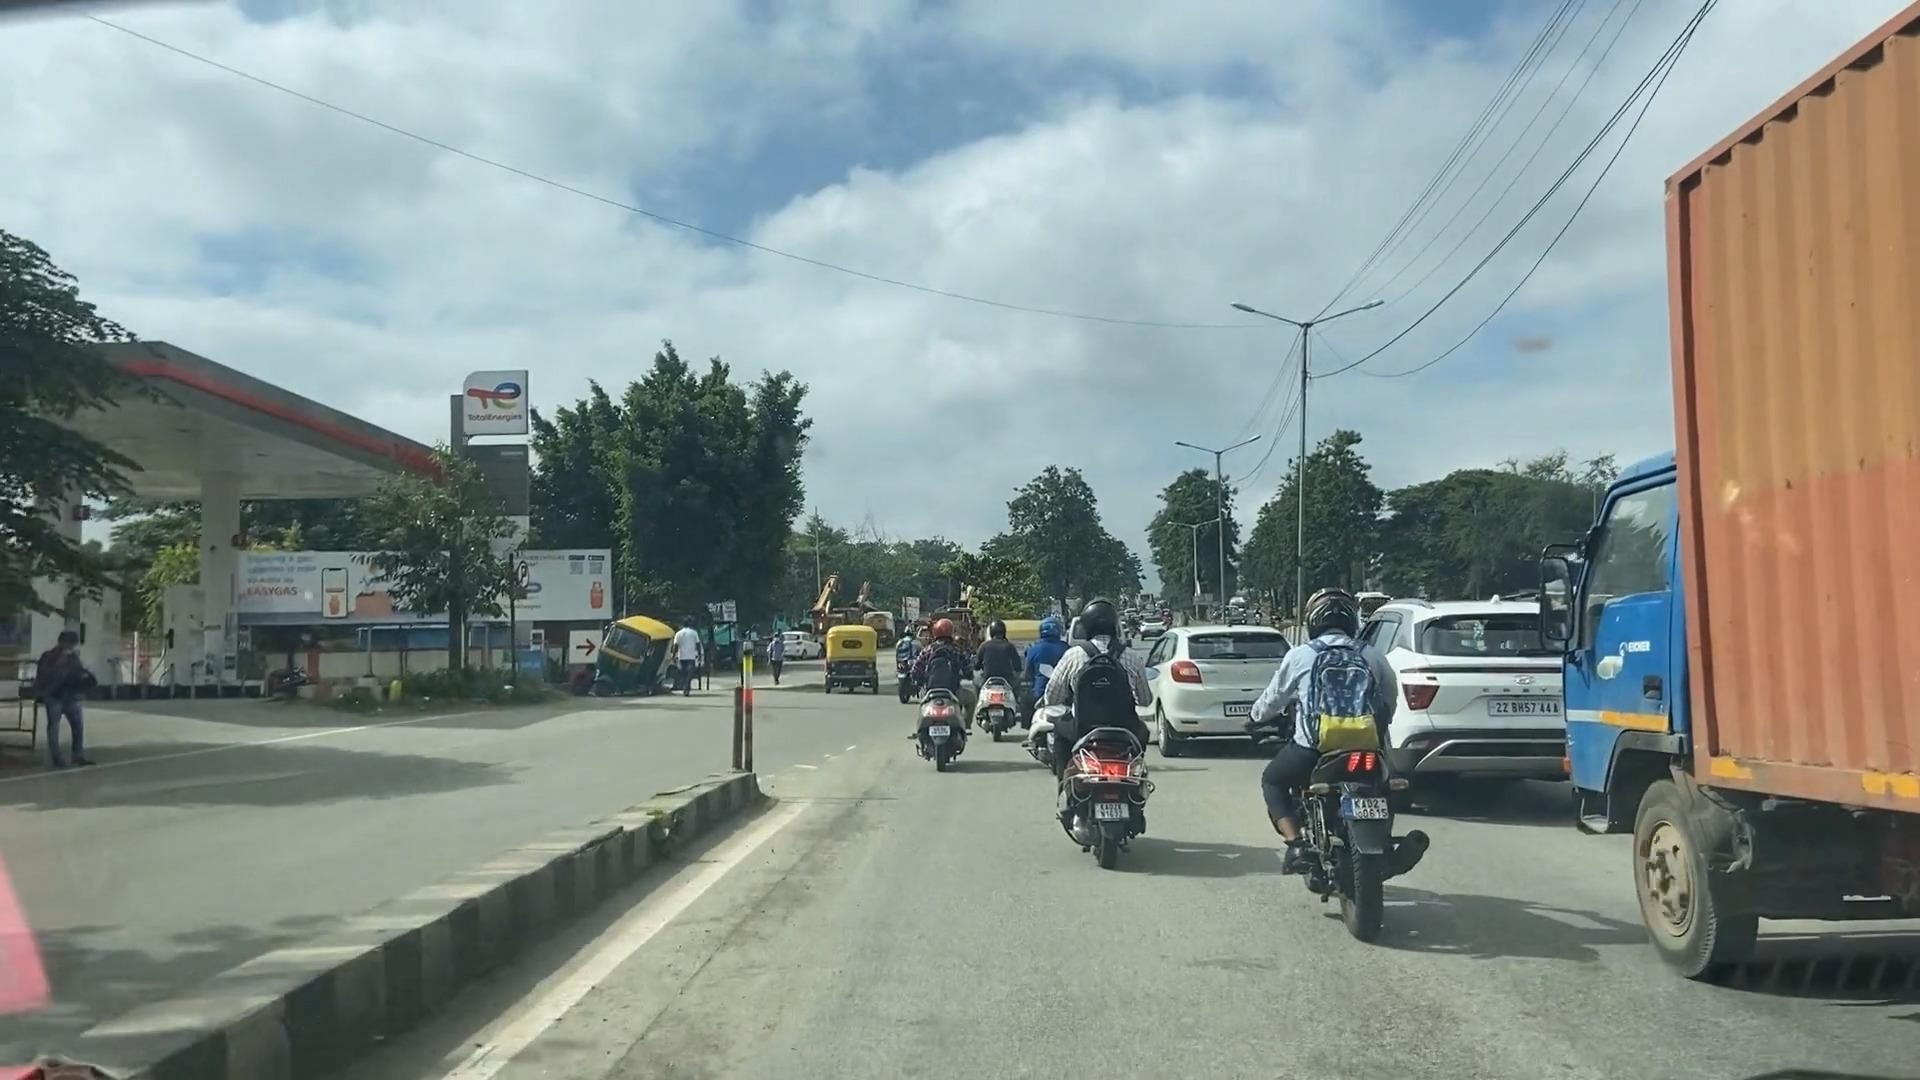LMV: (1294, 580, 1387, 940), (1065, 611, 1139, 866), (902, 618, 977, 781)
